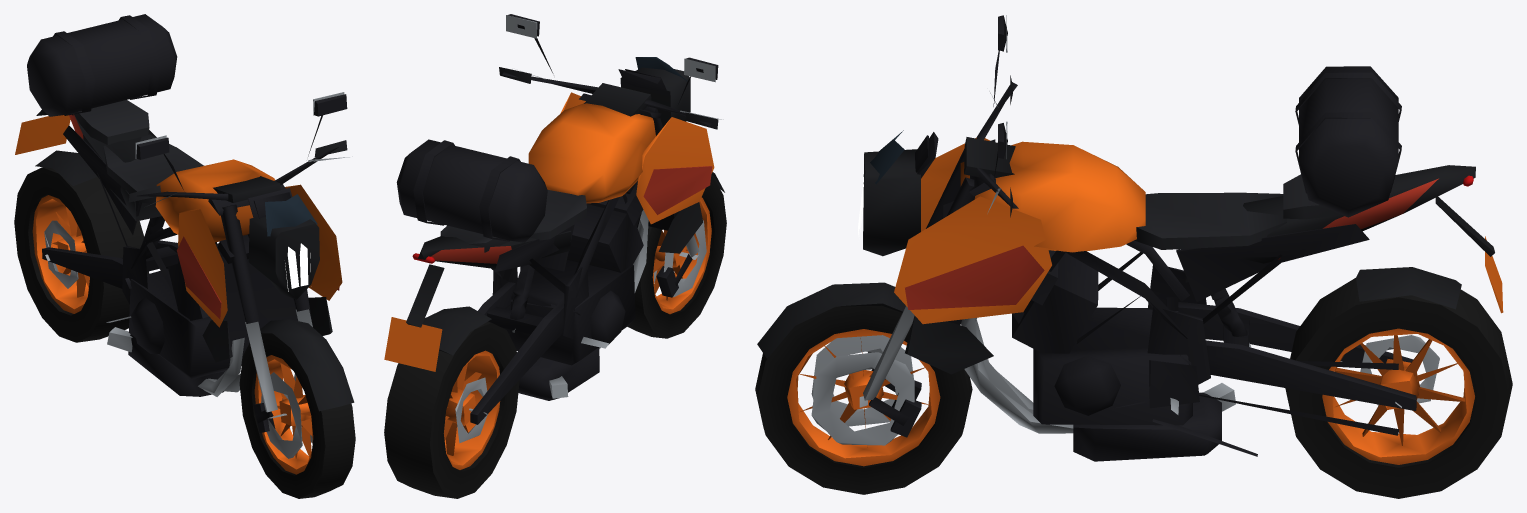
The model's file is bike11_duke990.glb.
3 views of the same model, side by side, from view 1: azimuth 30°, elevation 25°; view 2: azimuth 150°, elevation 25°; view 3: azimuth 270°, elevation 25° (orthographic). The views are drawn at different scales.
Parts seen in each view (by area): view 1: body, wheel_rear, wheel_front; view 2: body, wheel_rear, wheel_front; view 3: body, wheel_rear, wheel_front.
Boxes of the visible parts, x1=… form: body: x1=15, y1=14, x2=354, y2=432; wheel_rear: x1=14, y1=167, x2=149, y2=342; wheel_front: x1=239, y1=333, x2=355, y2=498; body: x1=384, y1=14, x2=724, y2=424; wheel_rear: x1=384, y1=321, x2=519, y2=498; wheel_front: x1=627, y1=176, x2=726, y2=338; body: x1=757, y1=15, x2=1503, y2=461; wheel_rear: x1=1285, y1=278, x2=1512, y2=498; wheel_front: x1=755, y1=305, x2=972, y2=494.
Size of the model in its own units: 0.86 by 1.25 by 2.09.
